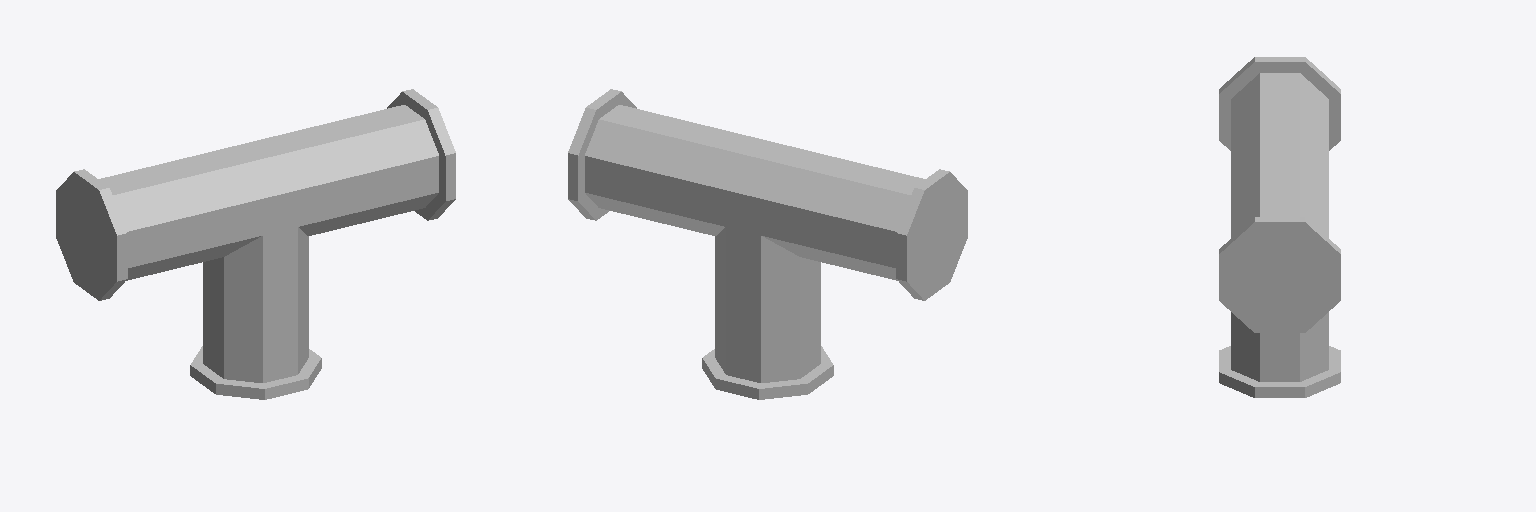
Rendered from pipeworks_pipe_6_lowpoly.obj.
3 renders of one model, left to right at view 1: azimuth 30°, elevation 25°; view 2: azimuth 150°, elevation 25°; view 3: azimuth 270°, elevation 25°, orthographic.
Parts seen in each view (by area): view 1: Cylinder.002_Cylinder.006_None.001; view 2: Cylinder.002_Cylinder.006_None.001; view 3: Cylinder.002_Cylinder.006_None.001.
Boxes of the visible parts, x1,y1,x2,y2 form: Cylinder.002_Cylinder.006_None.001: [56, 89, 455, 399]; Cylinder.002_Cylinder.006_None.001: [568, 89, 967, 399]; Cylinder.002_Cylinder.006_None.001: [1219, 57, 1340, 397].
Size of the model in its own units: 1 by 0.6562 by 0.3125.